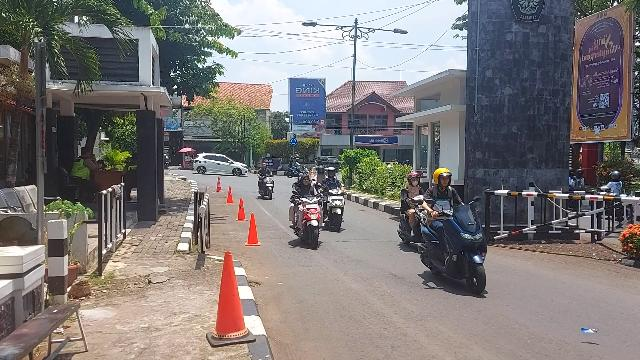helm: (434, 168, 453, 188), (409, 172, 422, 186), (327, 168, 337, 179), (319, 167, 326, 175)
motor: (419, 197, 490, 298), (292, 190, 327, 250), (398, 193, 427, 247), (322, 186, 352, 233), (259, 171, 276, 201)
non-helm: (303, 175, 311, 187), (299, 172, 306, 182), (263, 163, 268, 169)
